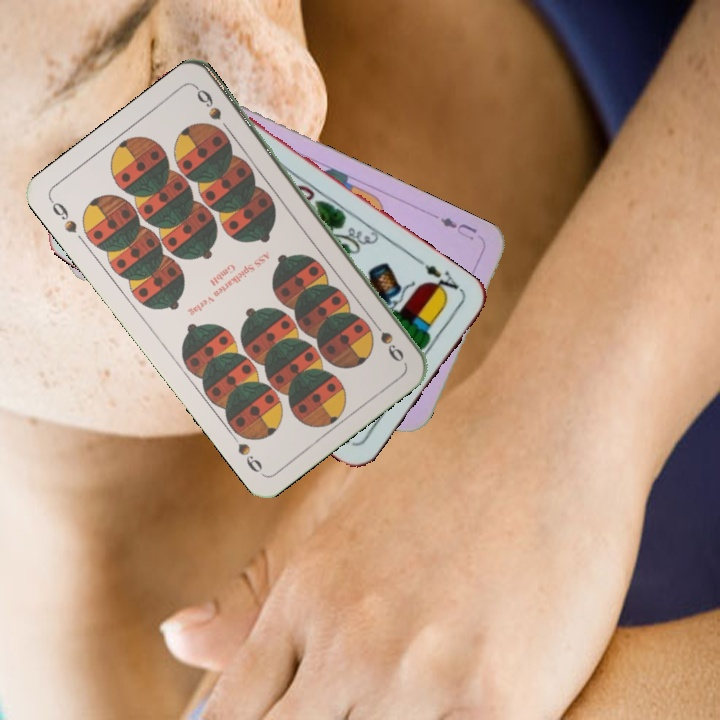EA: (413, 254, 465, 299)
EU: (436, 212, 480, 243)
S9: (366, 314, 407, 365), (46, 195, 80, 236)
